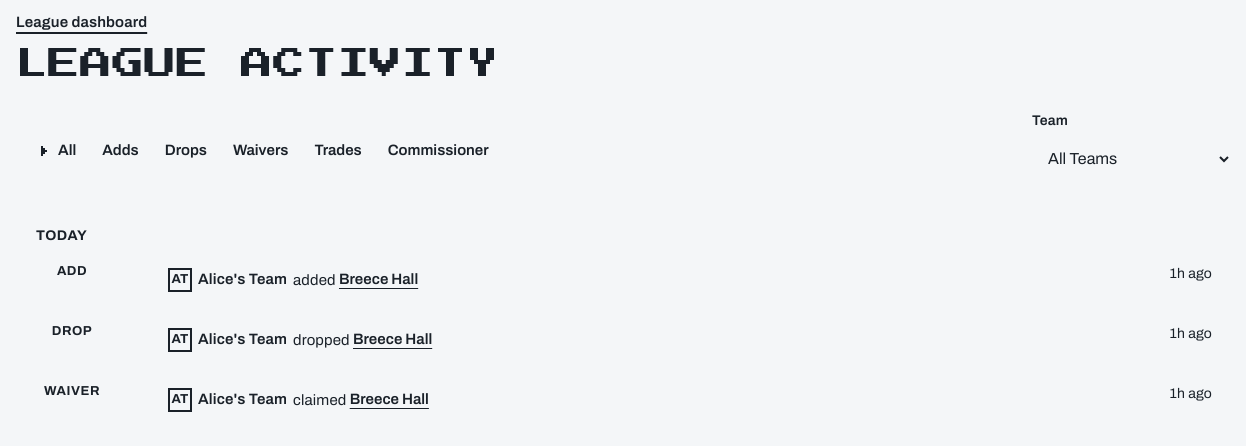
it: filters rows by transaction type
expect the list item with test id "txn-1" is shown: met, box [36,250,1212,310]
expect the list item with test id "txn-2" is shown: met, box [36,310,1212,370]
Click the radio button labelled "Adds": {"x": 120, "y": 151} [88,129,153,173]
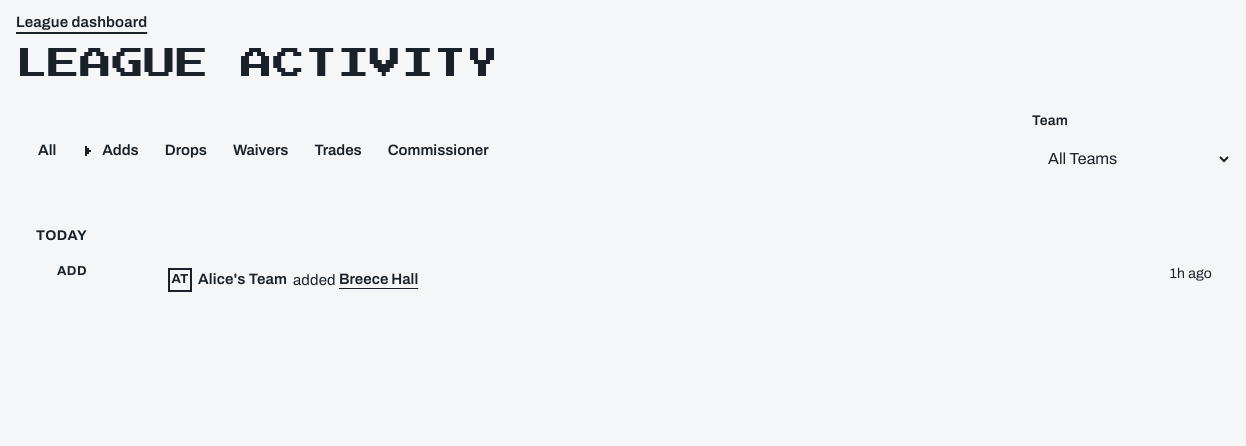
expect the list item with test id "txn-1" is shown: met, box [36,250,1212,310]
expect the list item with test id "txn-2" is gone: met
expect the list item with test id "txn-3" is gone: met
